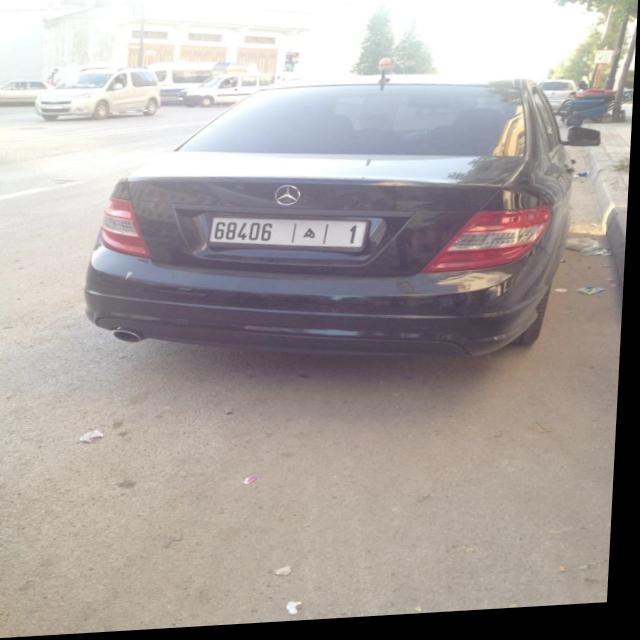License-Plate: (214, 221, 370, 252)
